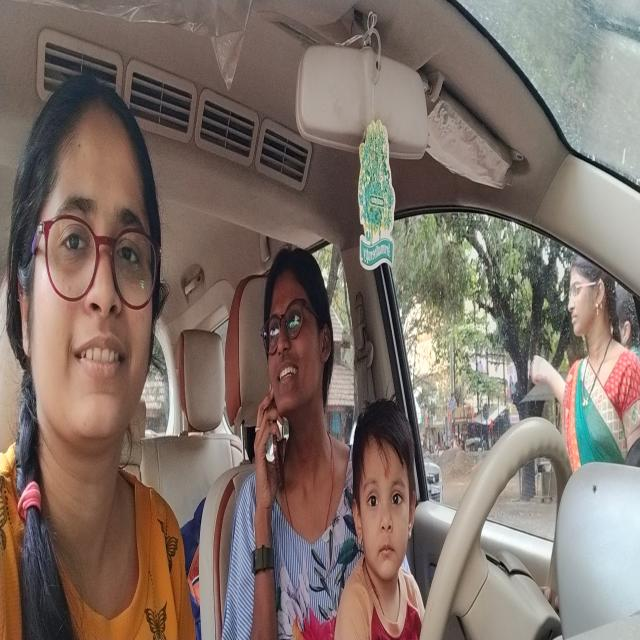child: (348, 388, 420, 580)
person: (5, 57, 174, 491), (263, 242, 335, 442)
